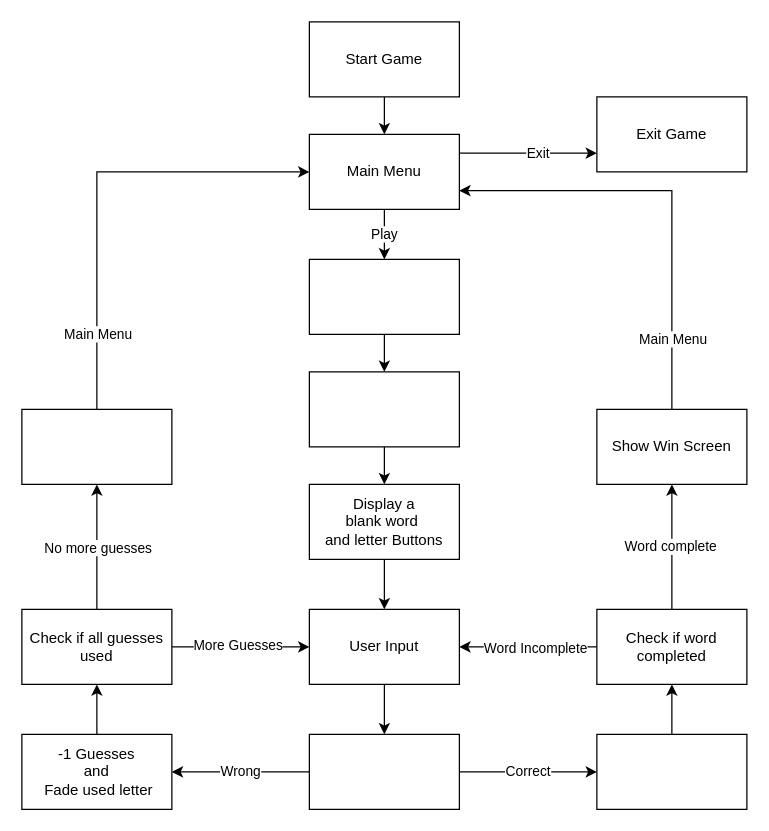
Some shapes in this 769 by 831 pixel diagram are drawn without their labels. The shapes that lost their labels are listed below. From the top down, each one's box as (x1, y1, x2, y2) in pixels, then its label:
(308, 258, 459, 334): Difficulty Select
(308, 371, 459, 447): Load correct dictionary
(21, 408, 172, 484): Show Fail Screen
(308, 733, 459, 809): Check Letter Choice
(596, 733, 747, 809): Add to word and Fade used letter
